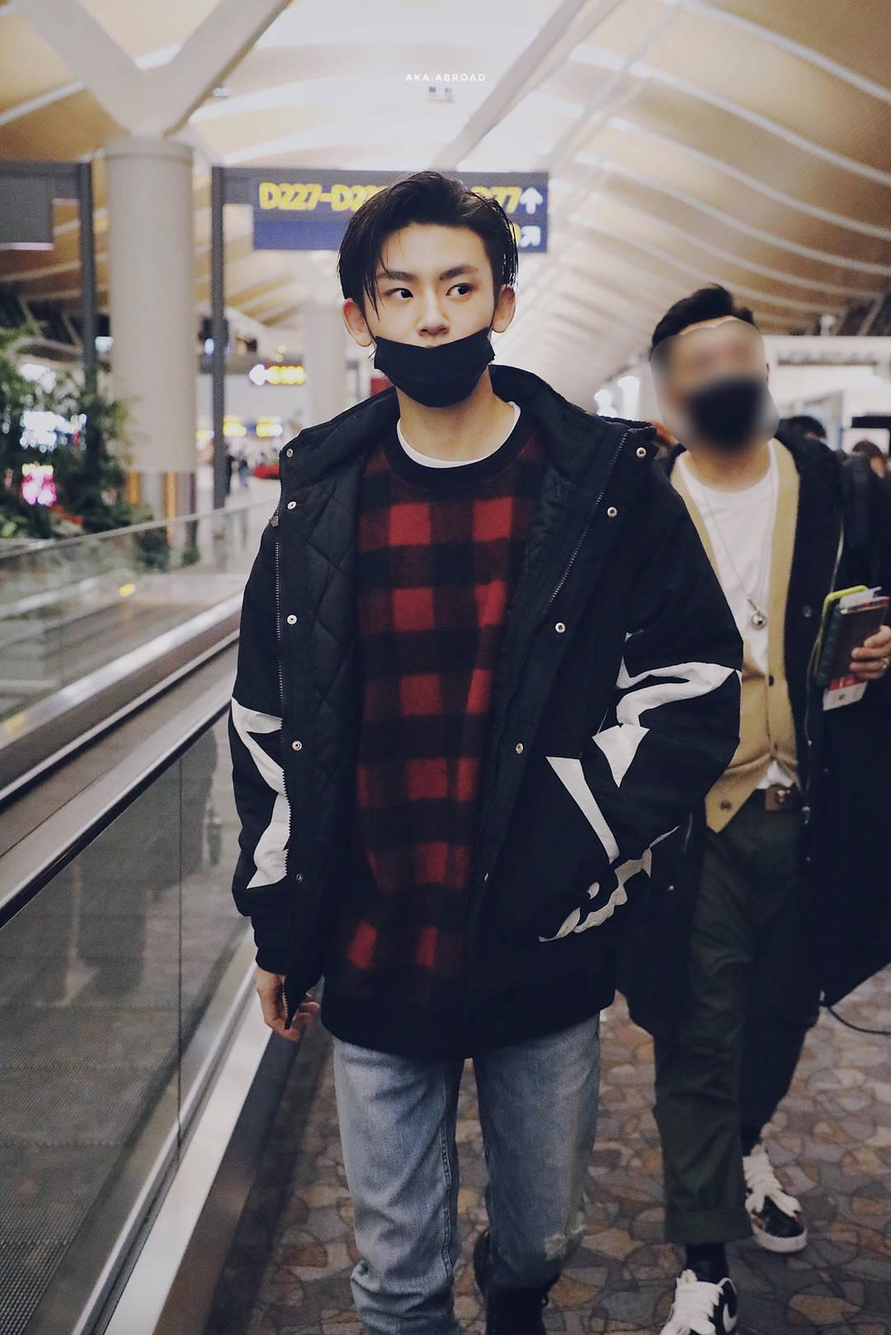OK: (672, 328, 769, 439)
WRONG: (367, 251, 495, 409)
